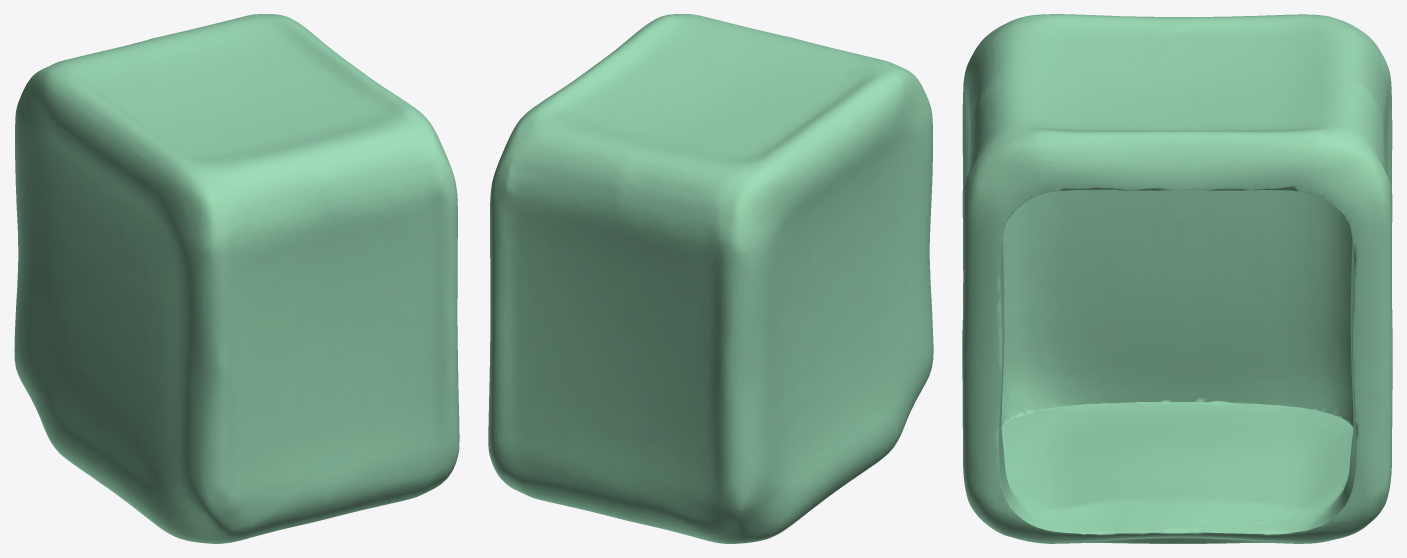
File: cube_green.glb
3 renders of one model, left to right at view 1: azimuth 30°, elevation 25°; view 2: azimuth 150°, elevation 25°; view 3: azimuth 270°, elevation 25°, orthographic. The views are drawn at different scales.
Visible parts, largest first — view 1: tripo_node_826c1c78-75da-4e59-a9c8-31823ff0d9b7; view 2: tripo_node_826c1c78-75da-4e59-a9c8-31823ff0d9b7; view 3: tripo_node_826c1c78-75da-4e59-a9c8-31823ff0d9b7.
Part boxes in pixels (x1=…): tripo_node_826c1c78-75da-4e59-a9c8-31823ff0d9b7: x1=14, y1=14, x2=459, y2=543; tripo_node_826c1c78-75da-4e59-a9c8-31823ff0d9b7: x1=488, y1=14, x2=933, y2=543; tripo_node_826c1c78-75da-4e59-a9c8-31823ff0d9b7: x1=962, y1=14, x2=1392, y2=543.
Bounding box in the file's own units: 0.737 × 1 × 0.9468.
Materials: 1 (1 with a texture image).
